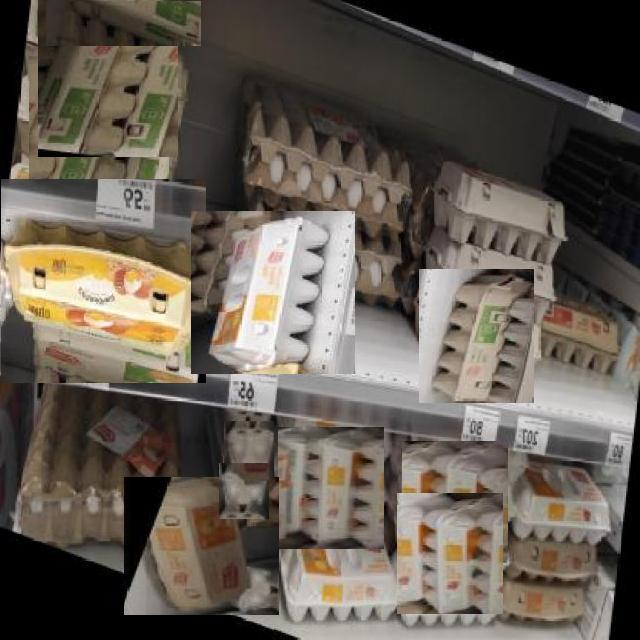Egg: (0, 179, 206, 383), (191, 210, 355, 374), (30, 56, 169, 226), (39, 0, 178, 157), (123, 477, 279, 615), (274, 497, 406, 639), (418, 269, 534, 403), (401, 442, 508, 563), (396, 493, 503, 614), (277, 428, 384, 549), (46, 0, 201, 46), (223, 420, 274, 477), (218, 462, 269, 519)
